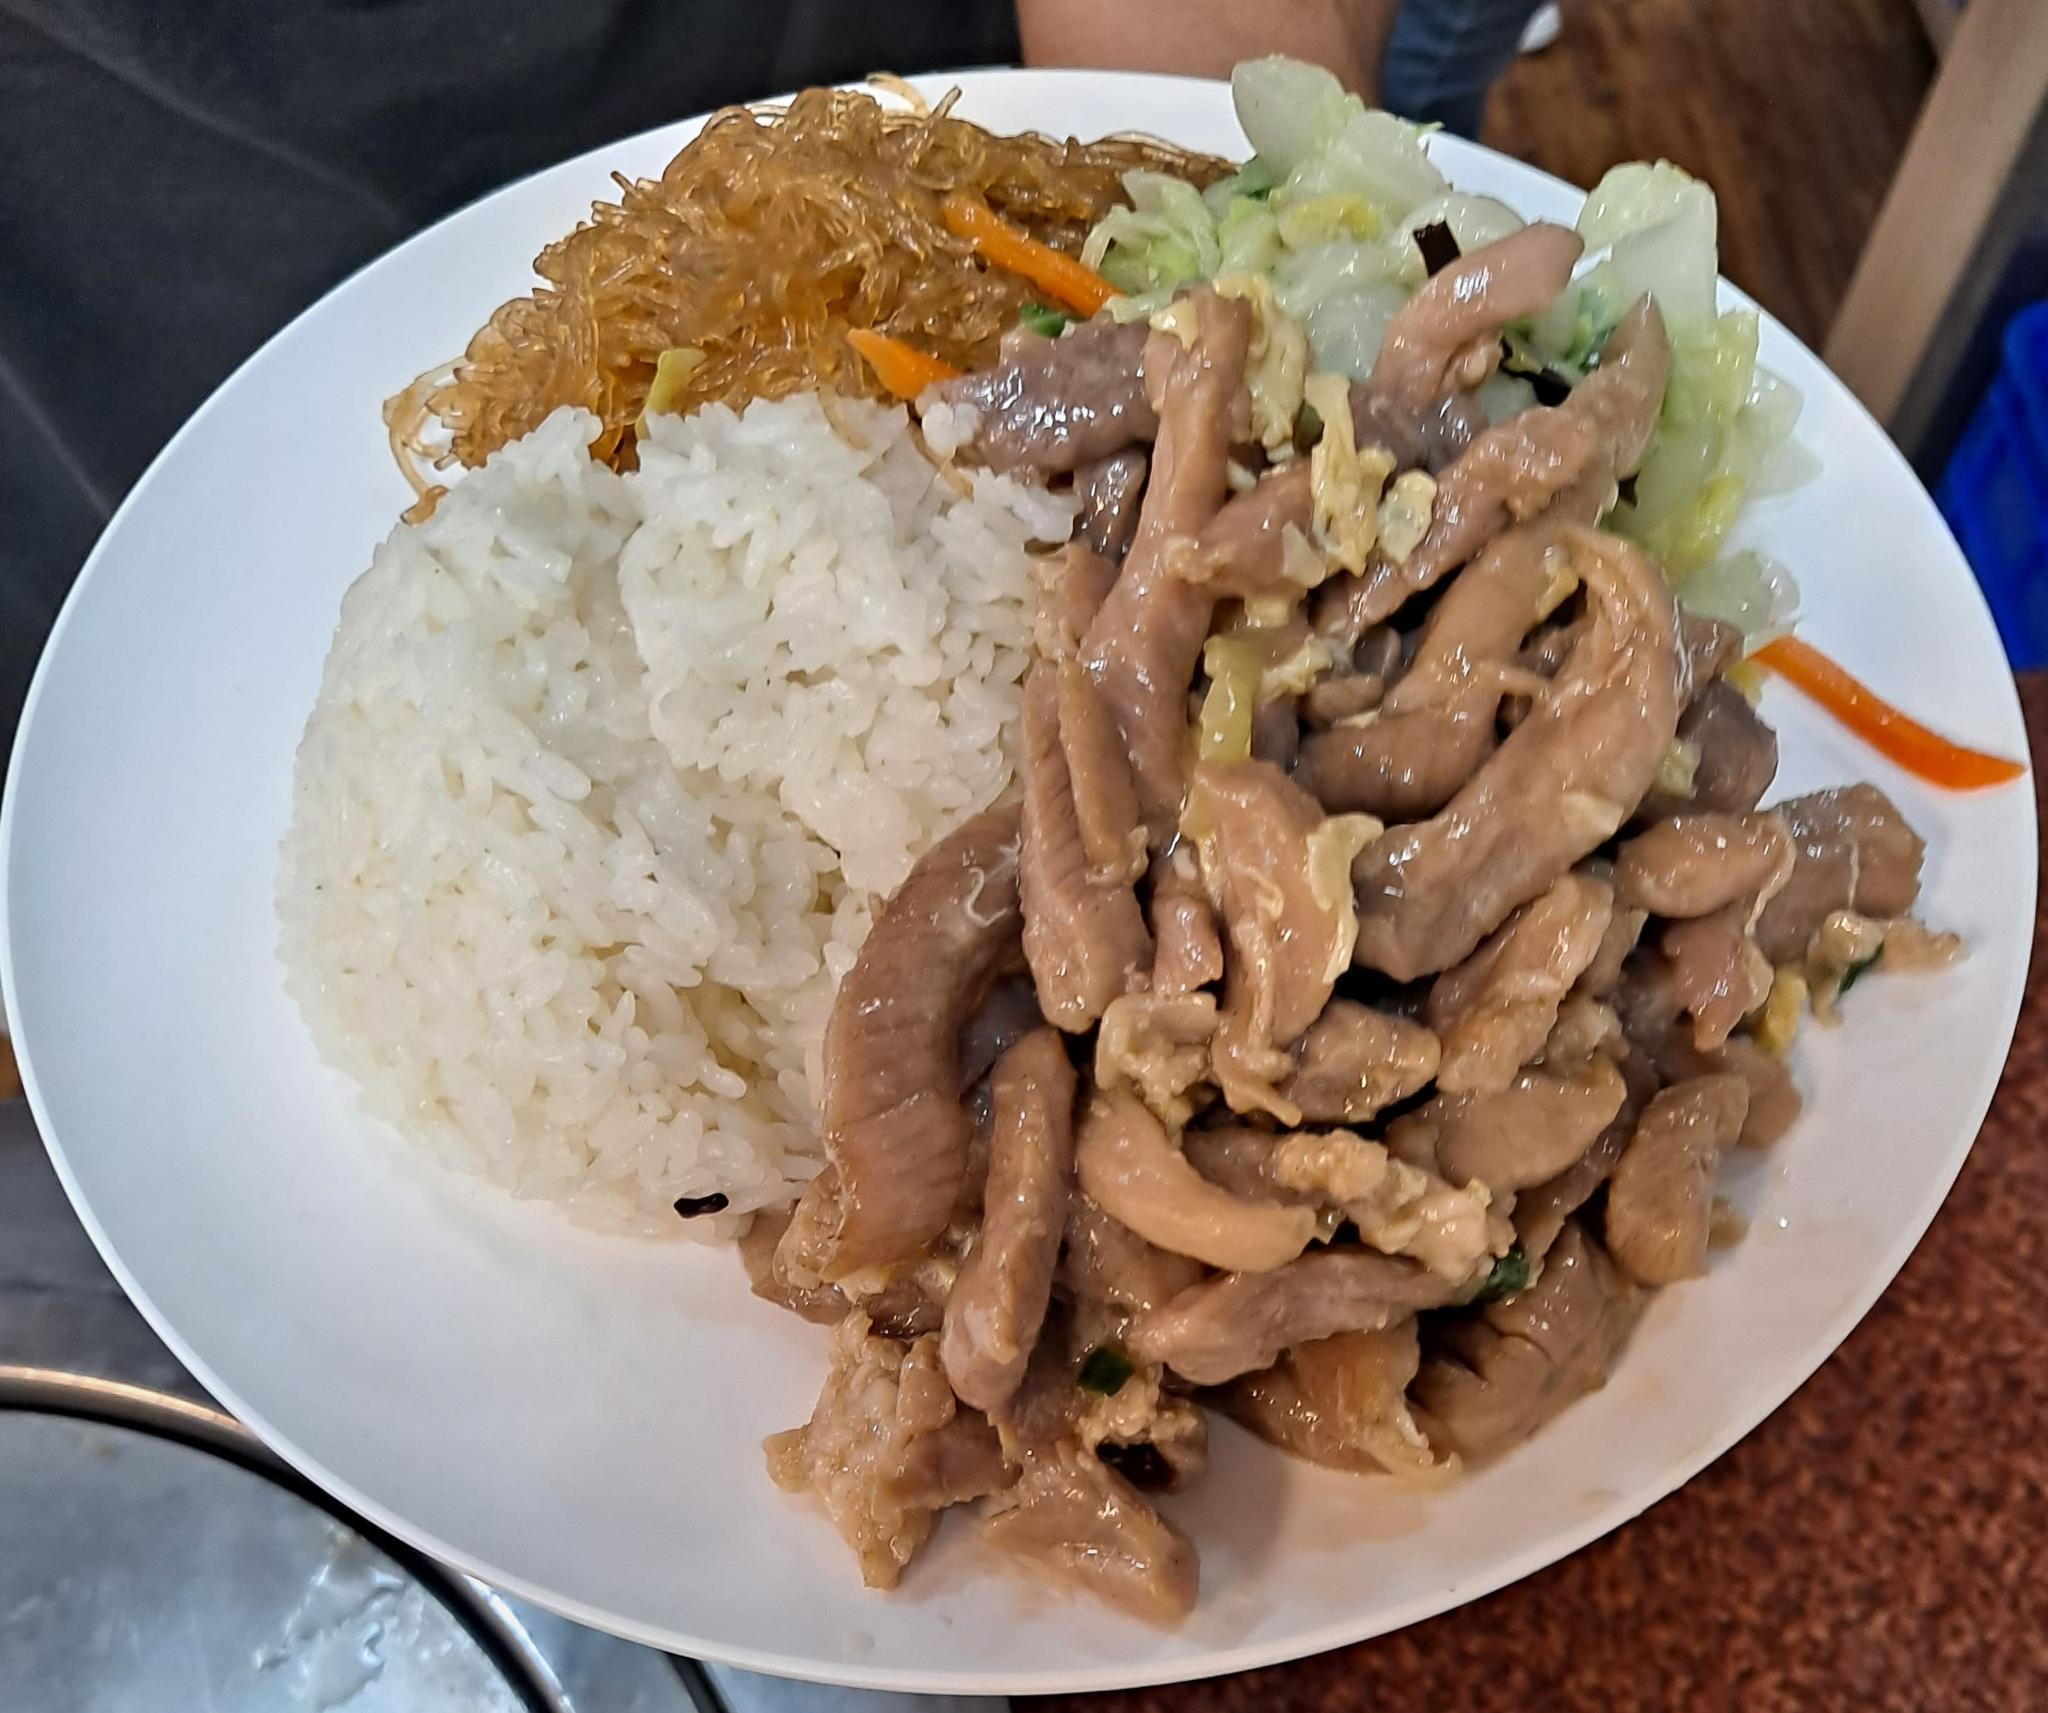big fried chicken leg: (9, 58, 2048, 1713)
braised fish fillet: (390, 68, 1213, 485), (1102, 78, 1766, 568)
braised pork: (805, 250, 1917, 1618), (289, 405, 1065, 1254)
